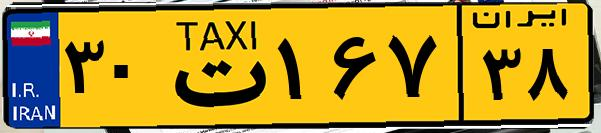0: (110, 28, 158, 98)
1: (270, 28, 330, 110)
3: (57, 26, 110, 100), (475, 38, 525, 113)
6: (330, 28, 385, 110)
7: (385, 28, 445, 110)
8: (525, 38, 570, 115)
ت: (158, 12, 270, 120)
